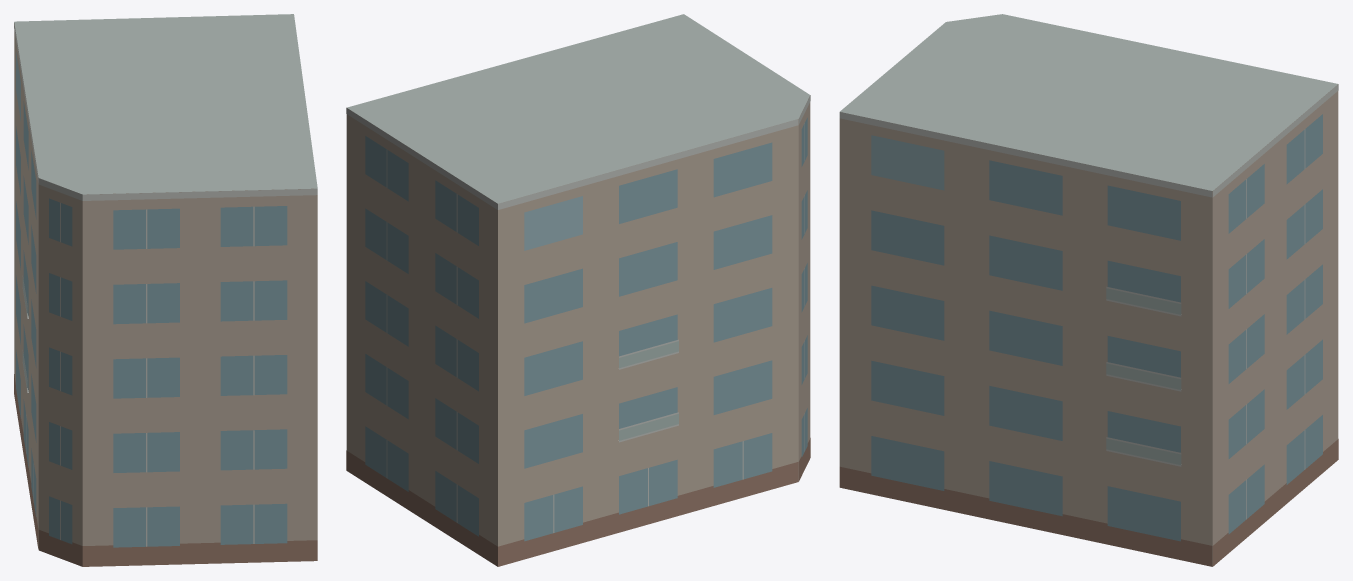
Rendered from survey-upis-32966752.glb.
3 views of the same model, side by side, from view 1: azimuth 30°, elevation 25°; view 2: azimuth 150°, elevation 25°; view 3: azimuth 270°, elevation 25° (orthographic). The views are drawn at different scales.
Visible parts, largest first — view 1: survey-upis-32966752.tmp; view 2: survey-upis-32966752.tmp; view 3: survey-upis-32966752.tmp.
Boxes of the visible parts, left/top/right/bottom form: survey-upis-32966752.tmp: left=14, top=14, right=317, bottom=566; survey-upis-32966752.tmp: left=346, top=14, right=810, bottom=566; survey-upis-32966752.tmp: left=839, top=14, right=1338, bottom=566.
Bounding box in the file's own units: 14.16 × 14 × 16.85.
